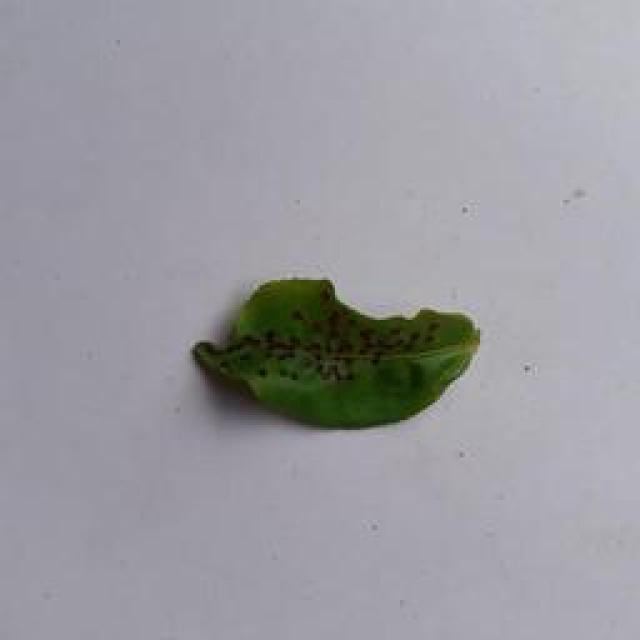Helopeltis: (185, 264, 484, 434)
